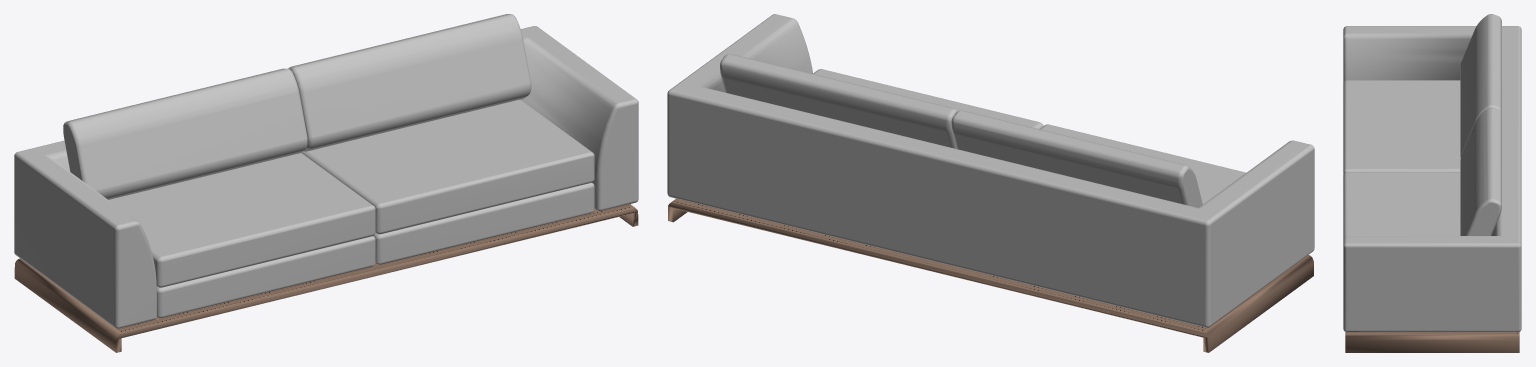
File: sofa-modelo-duplo-largo.glb
The picture shows the model from 3 angles, left to right: view 1: azimuth 30°, elevation 25°; view 2: azimuth 150°, elevation 25°; view 3: azimuth 270°, elevation 25°; orthographic projection. The views are drawn at different scales.
Visible parts, largest first — view 1: Modelo Duplo Largo; view 2: Modelo Duplo Largo; view 3: Modelo Duplo Largo.
Part boxes in pixels (x1,y1,x2,y2): Modelo Duplo Largo: [14, 14, 638, 352]; Modelo Duplo Largo: [667, 14, 1314, 352]; Modelo Duplo Largo: [1343, 14, 1521, 352].
Bounding box in the file's own units: 2.86 × 0.8293 × 0.9801.
